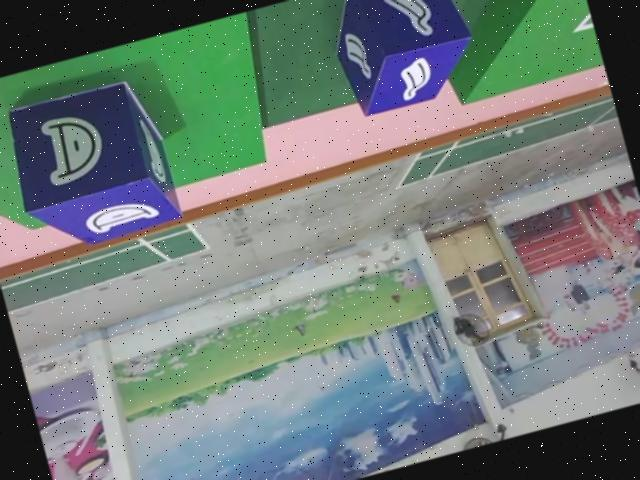R2 Real Blue: (0, 67, 185, 257), (322, 0, 486, 118)
